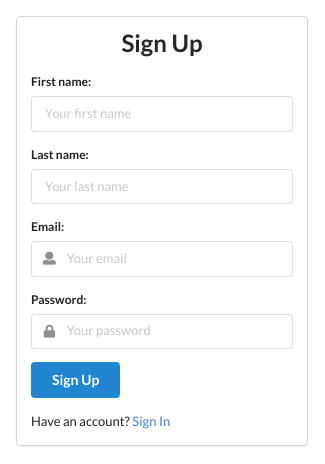
it: Sign up form component › when sign up successfully › should display confirmation message
Type "some first name" into the field labelled "First name:" at (162, 114), box top-left (31, 96), bottom-right (293, 132)
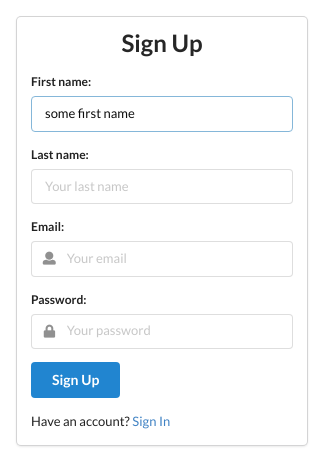
Type "some last name" into the field labelled "Last name:" at (162, 186), box top-left (31, 169), bottom-right (293, 204)
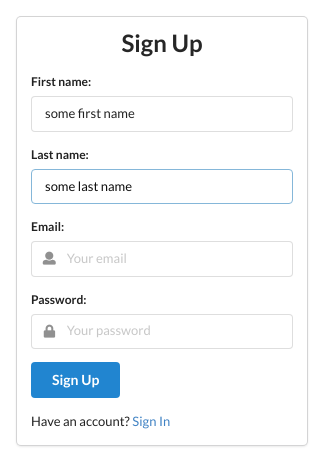
Type "test@test.com" into the field labelled "Email:" at (162, 259), box top-left (31, 241), bottom-right (293, 277)
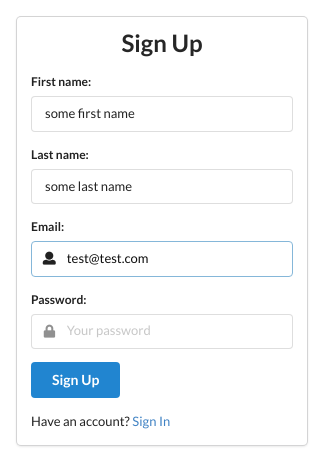
Type "some password" into the password field labelled "Password:" at (162, 331), box top-left (31, 314), bottom-right (293, 349)
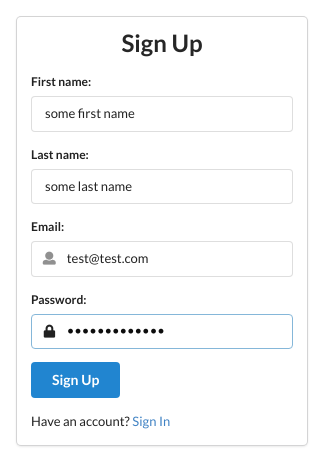
Click the button "Sign Up" at (76, 380), box top-left (31, 362), bottom-right (120, 398)
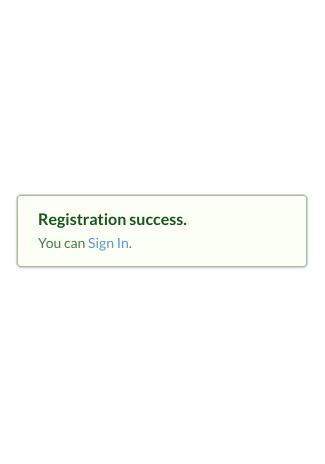
Now the text "Registration success." is shown, box top-left (38, 209), bottom-right (187, 228)
Now the heading "Sign Up" is gone
